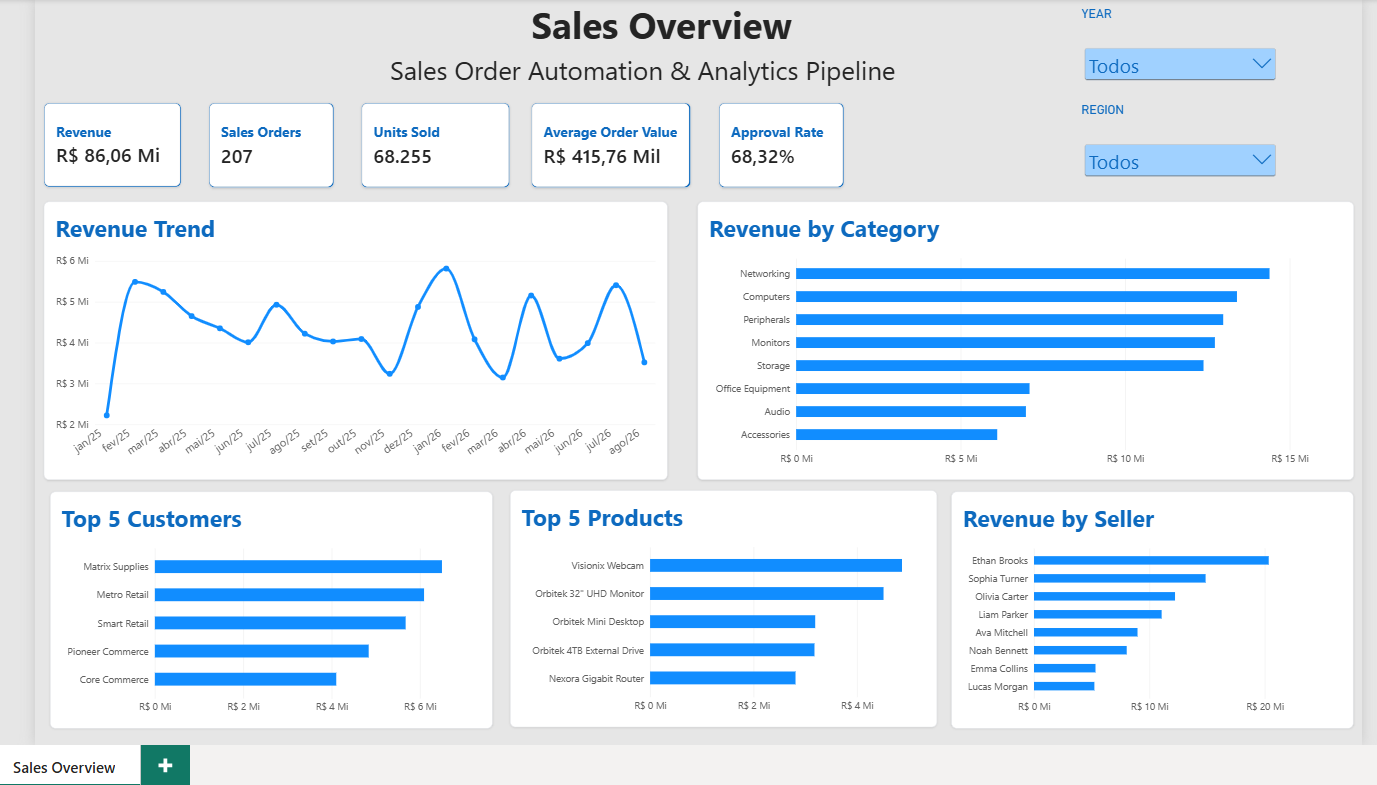

What the dashboard file says about the page in this screenshot:
{"tool":"powerbi","page":{"name":"Sales Overview","canvas":[1920,1080],"ordinal":0},"visuals":[{"type":"textbox","box":[718.4,0,395.2,78.2],"z":0},{"type":"textbox","box":[514.6,78.2,763.6,86.4],"z":1000},{"type":"slicer","title":"YEAR","fields":{"Values":["analytics dim_date.year"]},"box":[1514.9,11.2,286.8,109.8],"z":2000},{"type":"slicer","title":"REGION","fields":{"Values":["analytics dim_customer.region"]},"box":[1514.9,150.1,286.8,109.8],"z":3000},{"type":"cardVisual","title":"Revenue","fields":{"Data":["_Measures.Revenue"]},"box":[13.4,150.1,199.1,122.4],"z":4000},{"type":"cardVisual","fields":{"Data":["_Measures.Sales Orders"]},"box":[251,150.1,181.5,123.2],"z":5000},{"type":"cardVisual","fields":{"Data":["_Measures.Units Sold"]},"box":[472.8,150.1,215.1,123.2],"z":6000},{"type":"cardVisual","fields":{"Data":["_Measures.Approval Rate"]},"box":[990.5,150.1,181.5,123.2],"z":7000},{"type":"cardVisual","fields":{"Data":["_Measures.Average Order Value"]},"box":[719.3,150.1,230.8,123.2],"z":8000},{"type":"lineChart","title":"Revenue Trend","fields":{"Category":["analytics dim_date.month_year"],"Y":["_Measures.Revenue"]},"box":[13.4,293.6,903.1,403.4],"z":9000},{"type":"barChart","title":"Revenue by Category","fields":{"Category":["analytics dim_product.category"],"Y":["_Measures.Revenue"]},"box":[959.1,293.6,950.1,403.4],"z":10000},{"type":"barChart","title":"Top 5 Customers","fields":{"Category":["analytics dim_customer.customer_name"],"Y":["_Measures.Revenue"]},"box":[22.4,712.6,640.9,342.9],"z":11000},{"type":"barChart","title":"Top 5 Products","fields":{"Category":["analytics dim_product.product_description"],"Y":["_Measures.Revenue"]},"box":[688,710.4,618.5,342.9],"z":12000},{"type":"barChart","title":"Revenue by Seller","fields":{"Category":["analytics dim_seller.seller_name"],"Y":["_Measures.Revenue"]},"box":[1326.6,712.6,582.6,342.9],"z":13000}]}

Visuals, with their boxes on the page's 1920x1080 design canvas (x1, y1, x2, y2). These are canvas units, not pixel positions in the 1377x785 screenshot, which may show the page scaled, cropped or inside an application window:
textbox: 718, 0, 1114, 78
textbox: 515, 78, 1278, 165
"YEAR" slicer: 1515, 11, 1802, 121
"REGION" slicer: 1515, 150, 1802, 260
"Revenue" cardVisual: 13, 150, 212, 272
cardVisual - _Measures.Sales Orders: 251, 150, 432, 273
cardVisual - _Measures.Units Sold: 473, 150, 688, 273
cardVisual - _Measures.Approval Rate: 990, 150, 1172, 273
cardVisual - _Measures.Average Order Value: 719, 150, 950, 273
"Revenue Trend" lineChart: 13, 294, 916, 697
"Revenue by Category" barChart: 959, 294, 1909, 697
"Top 5 Customers" barChart: 22, 713, 663, 1056
"Top 5 Products" barChart: 688, 710, 1306, 1053
"Revenue by Seller" barChart: 1327, 713, 1909, 1056
